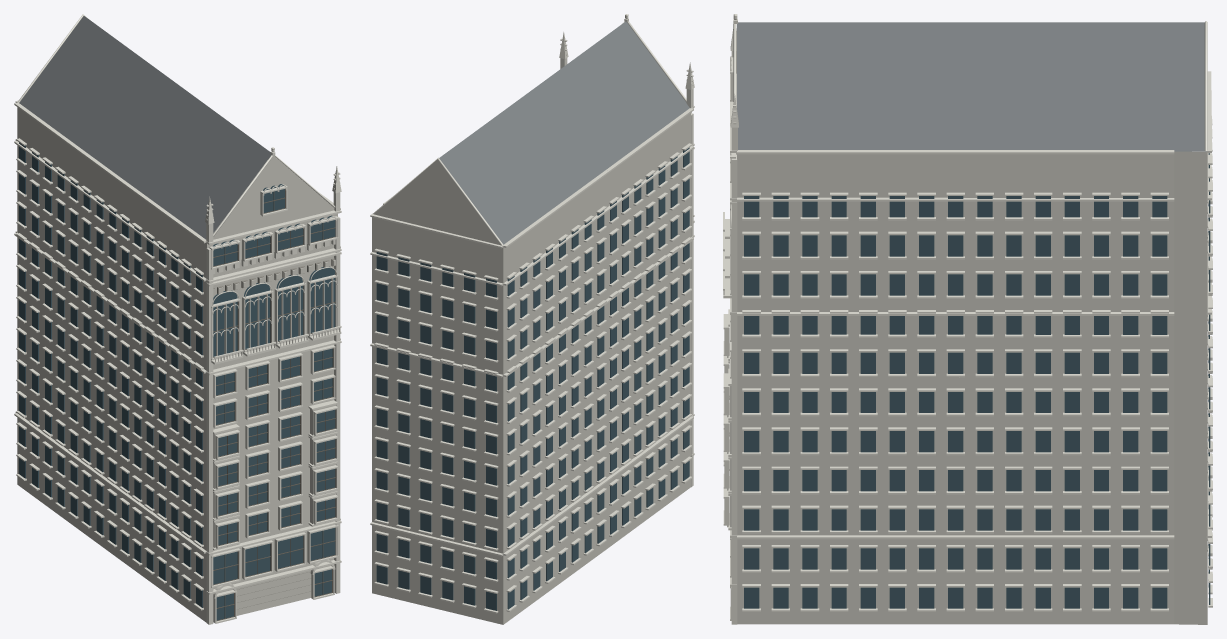
File: university_club.glb
3 renders of one model, left to right at view 1: azimuth 30°, elevation 25°; view 2: azimuth 150°, elevation 25°; view 3: azimuth 270°, elevation 25°, orthographic. The views are drawn at different scales.
Visible parts, largest first — view 1: Gothic limestone, Raised pale stonework, Recessed blue glazing, Slate pitched roof, Bronze mullions, Recessed stone joints; view 2: Gothic limestone, Recessed blue glazing, Raised pale stonework, Slate pitched roof; view 3: Gothic limestone, Slate pitched roof, Recessed blue glazing, Raised pale stonework.
Boxes of the visible parts, x1=… form: Gothic limestone: x1=17, y1=107, x2=337, y2=622; Raised pale stonework: x1=14, y1=14, x2=341, y2=624; Recessed blue glazing: x1=19, y1=142, x2=335, y2=620; Slate pitched roof: x1=19, y1=16, x2=271, y2=239; Bronze mullions: x1=213, y1=189, x2=335, y2=620; Recessed stone joints: x1=213, y1=148, x2=335, y2=609; Gothic limestone: x1=372, y1=22, x2=690, y2=624; Recessed blue glazing: x1=376, y1=147, x2=689, y2=610; Raised pale stonework: x1=370, y1=14, x2=694, y2=613; Slate pitched roof: x1=439, y1=21, x2=689, y2=244; Gothic limestone: x1=730, y1=151, x2=1207, y2=624; Slate pitched roof: x1=737, y1=22, x2=1206, y2=151; Recessed blue glazing: x1=744, y1=153, x2=1210, y2=608; Raised pale stonework: x1=723, y1=14, x2=1212, y2=624.
Bounding box in the file's own units: 22.04 × 69.97 × 54.45.
